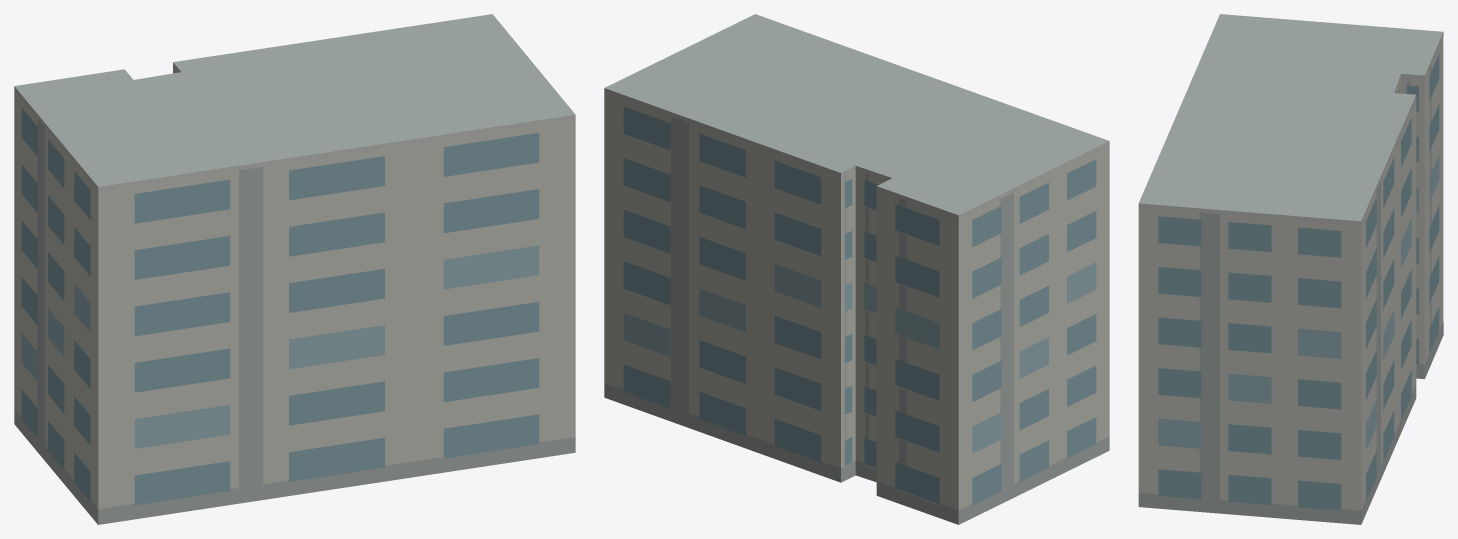
Rendered from survey-upis-32521361.glb.
3 renders of one model, left to right at view 1: azimuth 30°, elevation 25°; view 2: azimuth 150°, elevation 25°; view 3: azimuth 270°, elevation 25°, orthographic. The views are drawn at different scales.
Parts seen in each view (by area): view 1: survey-upis-32521361.tmp; view 2: survey-upis-32521361.tmp; view 3: survey-upis-32521361.tmp.
Boxes of the visible parts, bbox=[...] form: survey-upis-32521361.tmp: bbox=[14, 14, 575, 524]; survey-upis-32521361.tmp: bbox=[604, 14, 1109, 524]; survey-upis-32521361.tmp: bbox=[1138, 14, 1443, 524].
Bounding box in the file's own units: 25.35 × 17.3 × 15.75.
